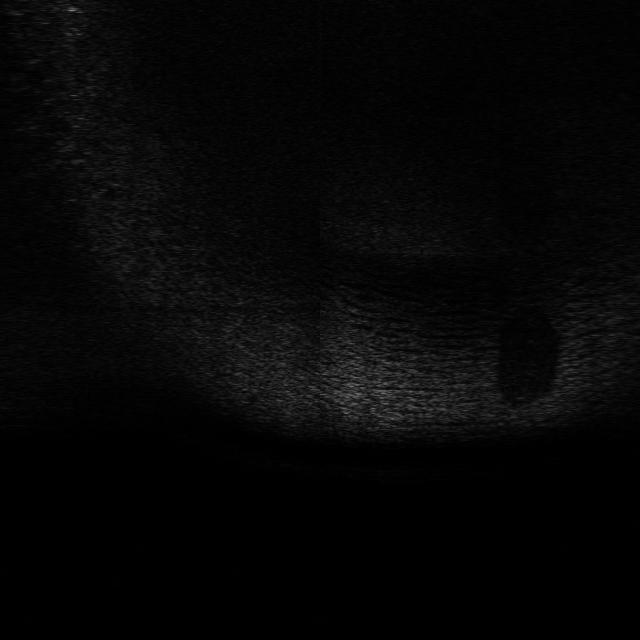cube: (498, 390, 561, 425)
